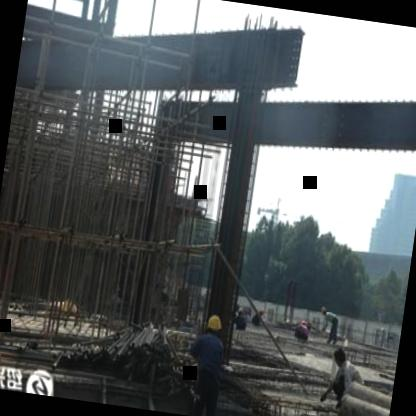helmet: (202, 310, 225, 342)
